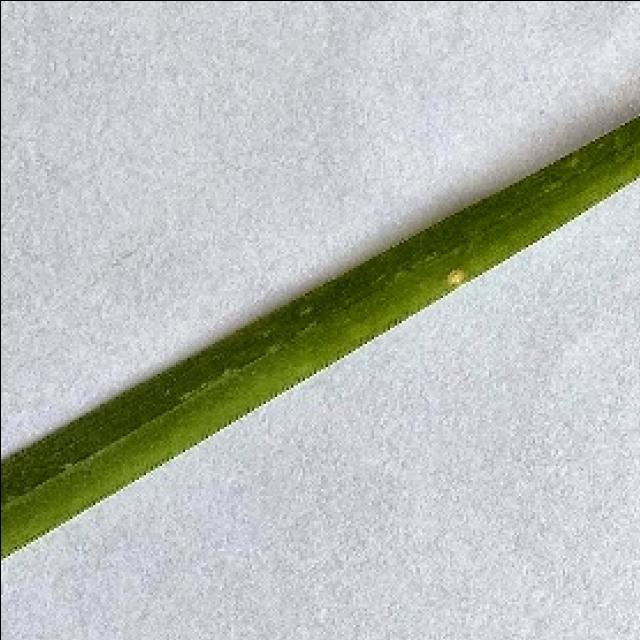Leaf_Blast: (424, 253, 476, 290)
